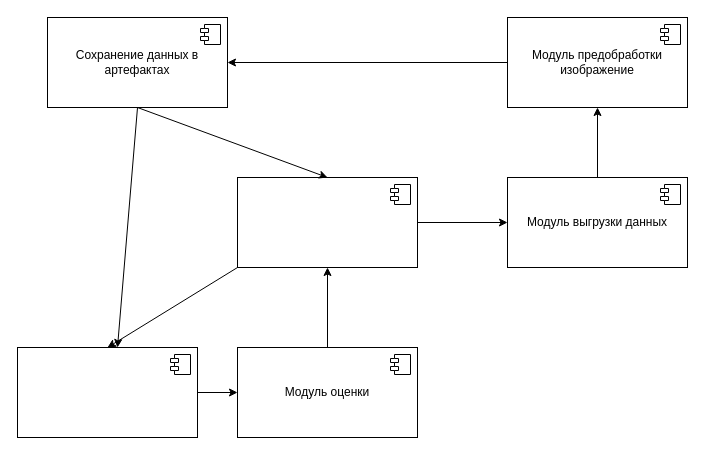
Image size: 705x455. Some labels were removed from this diagram. Here are the shapes that lost their labels. From the top down, the centre of each, then its label:
At [327,222]: "Модуль определения эмоции человека".
At [107,392]: "Модуль обучения модели".
